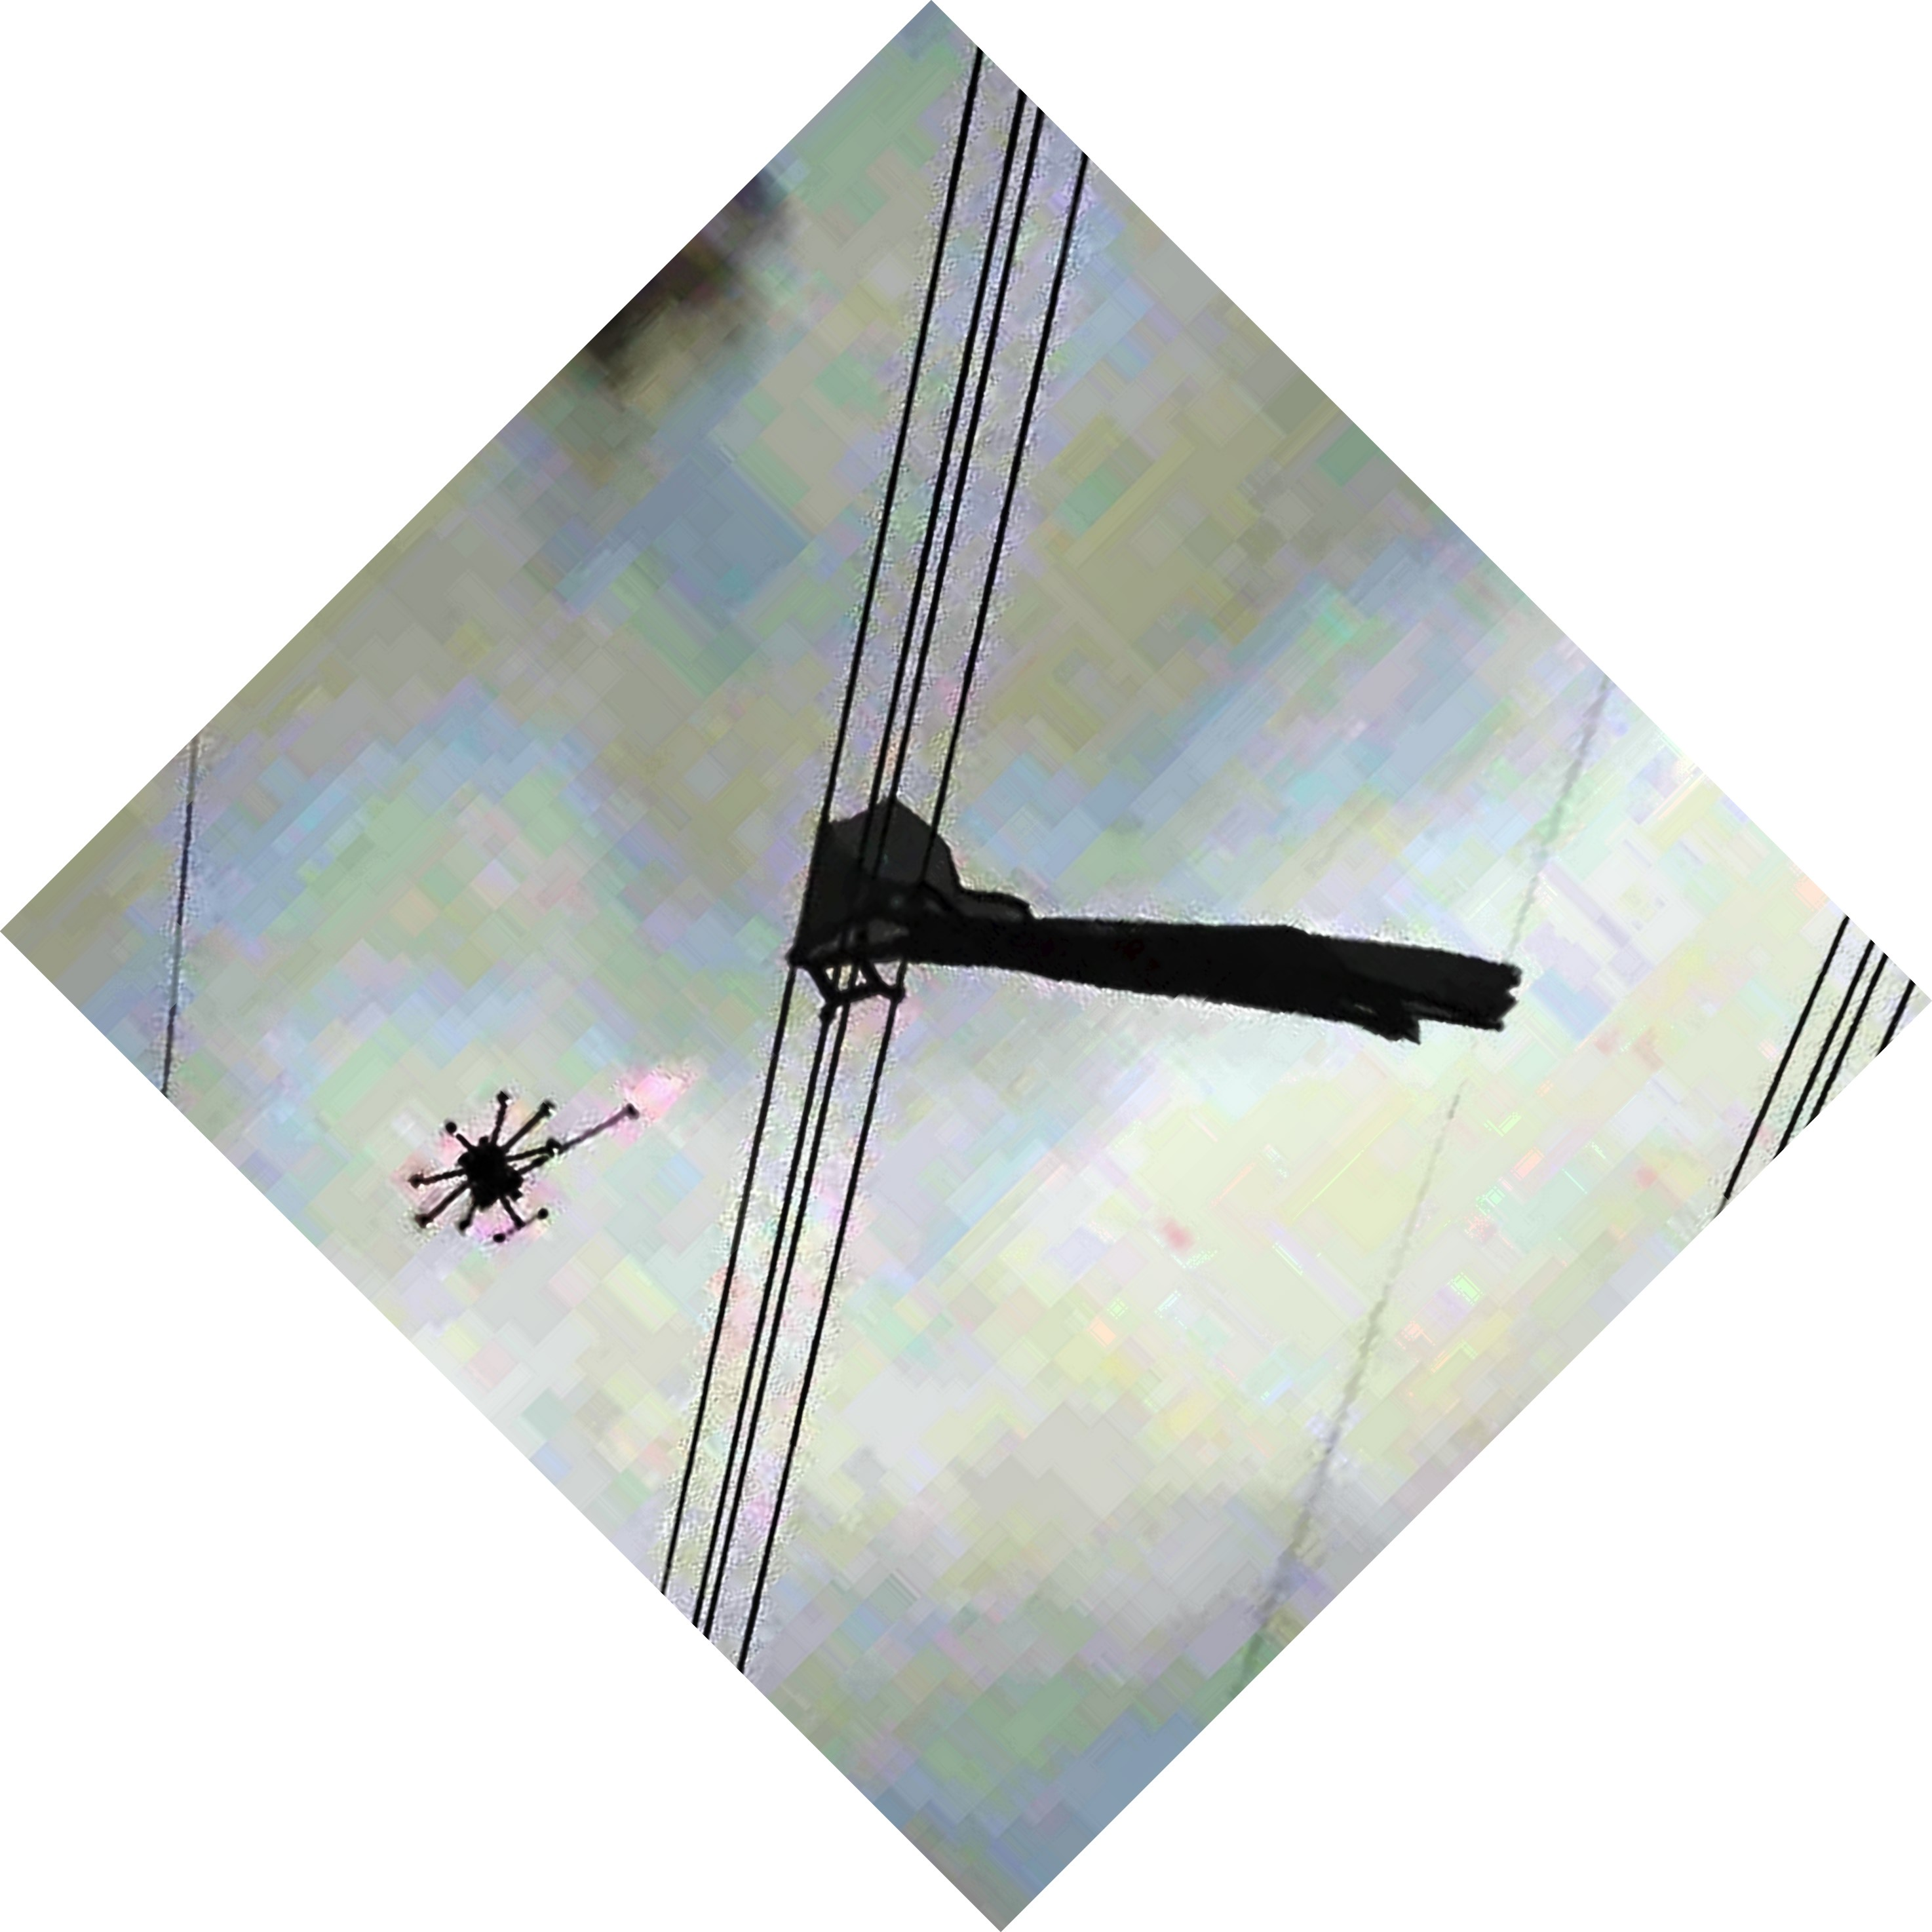wire foreign body: (763, 787, 1545, 1065)
